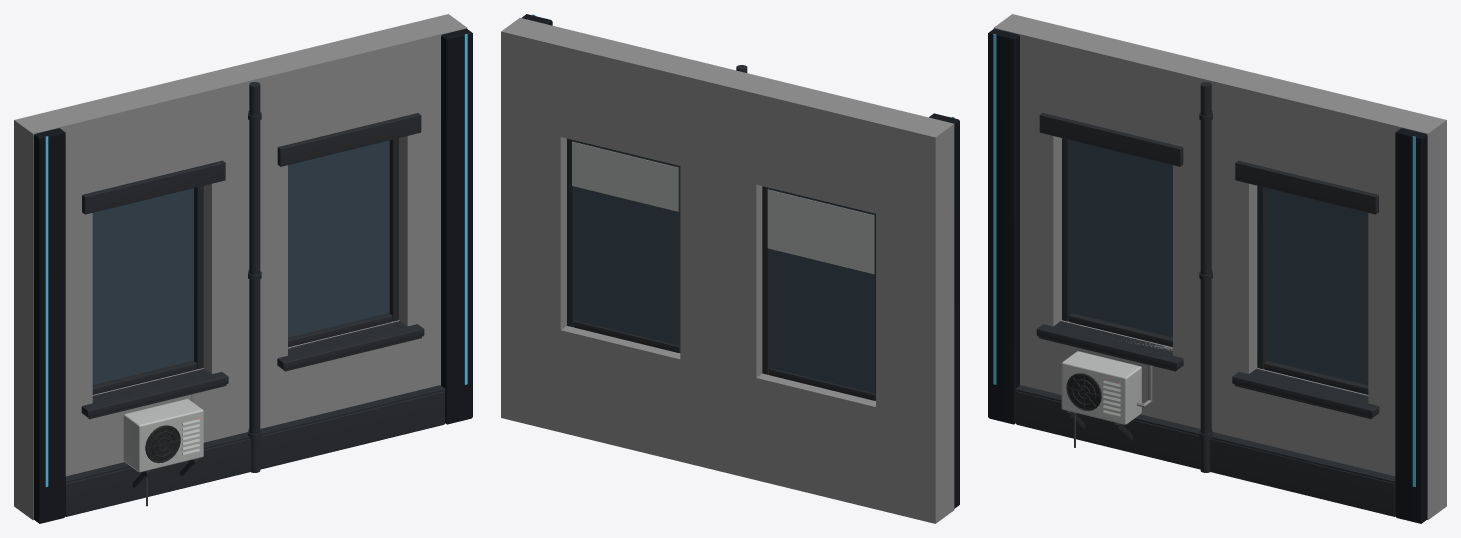
The model's file is Building_Facade_Panel_Window_Double.fbx.
3 views of the same model, side by side, from view 1: azimuth 30°, elevation 25°; view 2: azimuth 150°, elevation 25°; view 3: azimuth 330°, elevation 25° (orthographic).
Parts seen in each view (by area): view 1: Building_Facade_Panel_Window_Double_LOD0; view 2: Building_Facade_Panel_Window_Double_LOD0; view 3: Building_Facade_Panel_Window_Double_LOD0.
Part boxes in pixels (box(x1,y1,x2,y2)): Building_Facade_Panel_Window_Double_LOD0: box(14, 14, 472, 523); Building_Facade_Panel_Window_Double_LOD0: box(501, 14, 959, 523); Building_Facade_Panel_Window_Double_LOD0: box(988, 14, 1446, 523).
Size of what is drawn, in the model's own units: 4 by 3.4 by 0.63.
